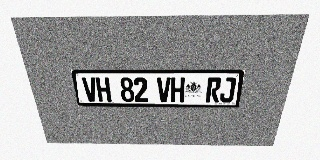2: (133, 77, 148, 102)
8: (119, 77, 135, 102)
H: (95, 77, 111, 102), (171, 77, 185, 102)
J: (219, 77, 236, 102)
R: (205, 77, 222, 102)
V: (81, 77, 98, 102), (157, 77, 171, 102)
